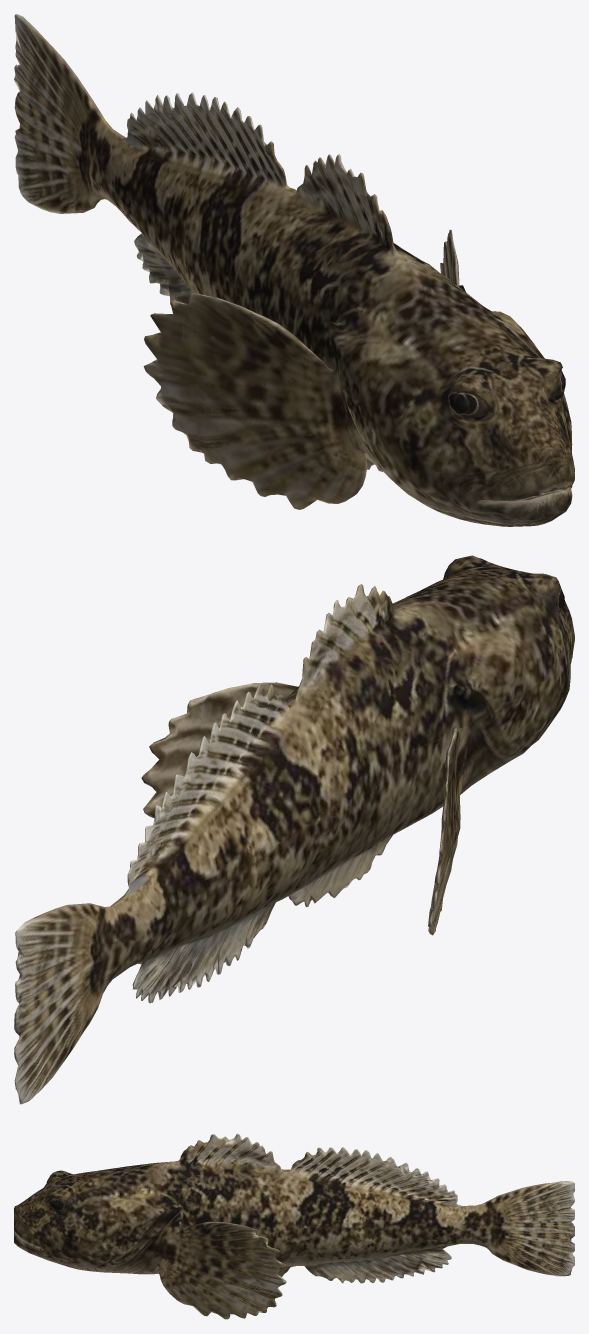
The model's file is bullhead.lo.glb.
3 renders of one model, top to bottom at view 1: azimuth 30°, elevation 25°; view 2: azimuth 150°, elevation 25°; view 3: azimuth 270°, elevation 25°, orthographic. The views are drawn at different scales.
Size of the model in its own units: 0.0349 by 0.0351 by 0.108.
1 material, 1 textured.
